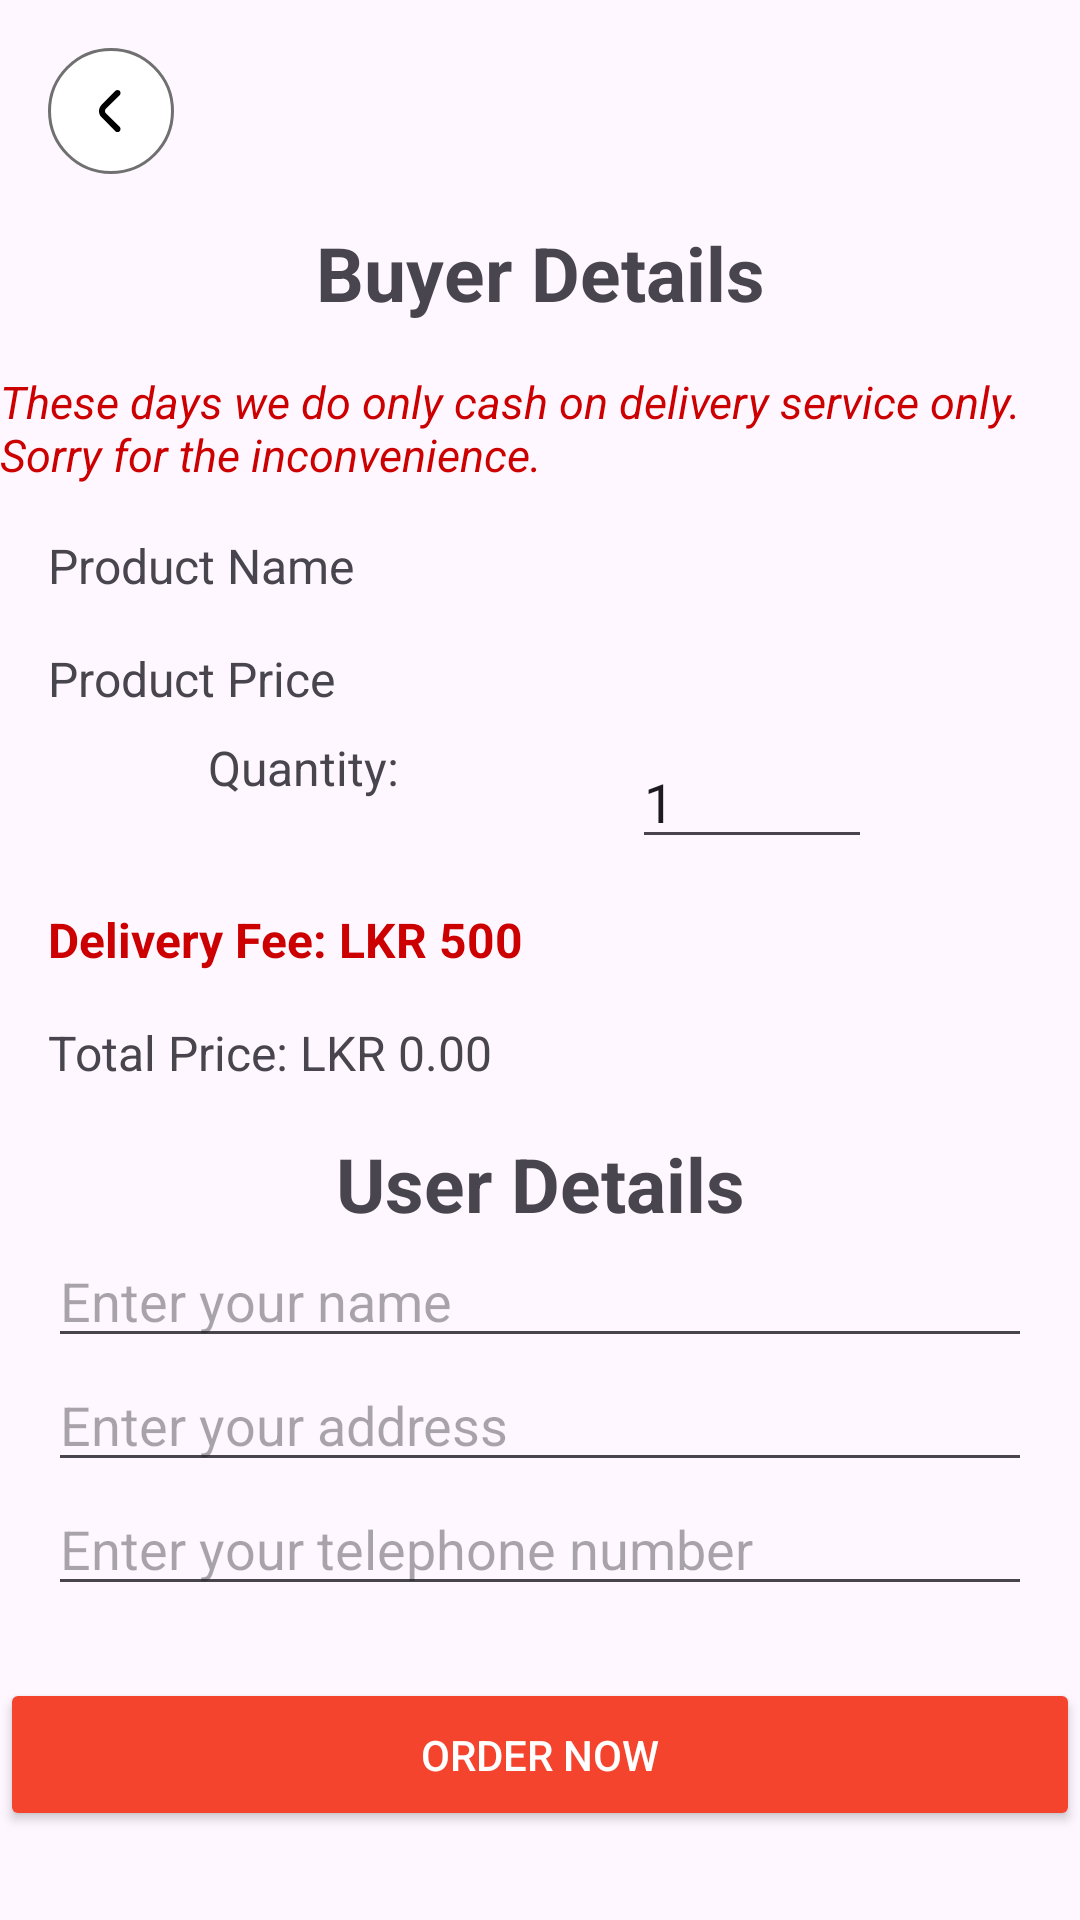

Screen size 1080 x 1920. Icon name, then its center in pixels as [x,y]:
back: [111,111]
